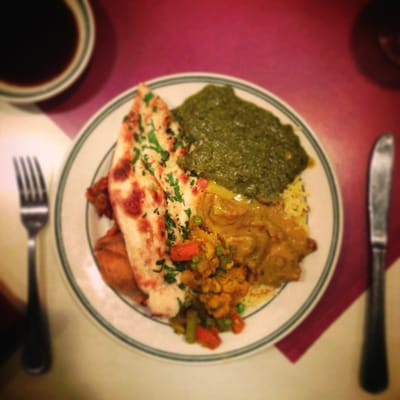burger: (13, 155, 51, 376)
sandwich: (362, 132, 393, 394)
